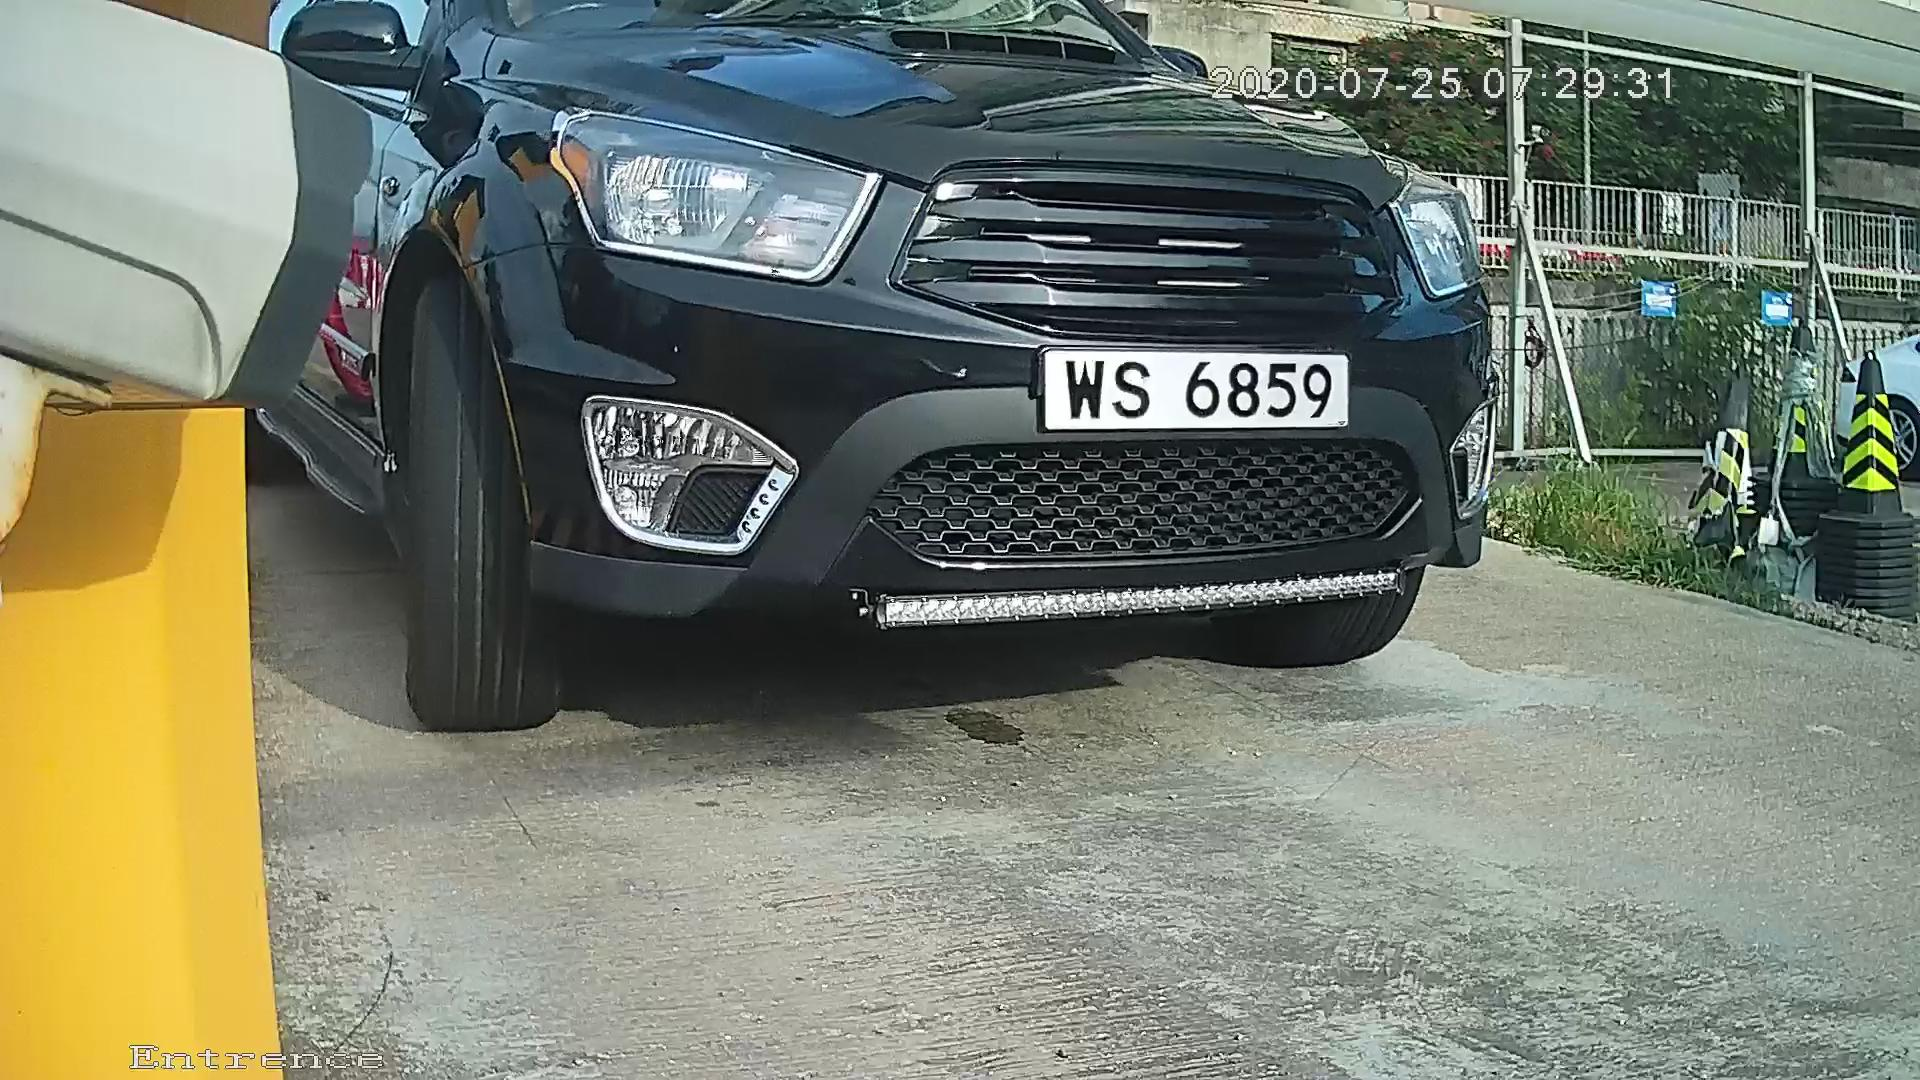License Plate: (995, 328, 1381, 454)
